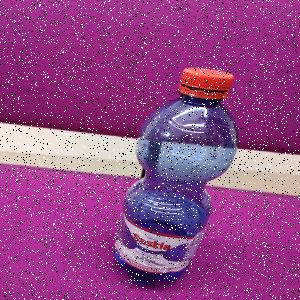Plastic-bottle: (114, 67, 241, 291)
